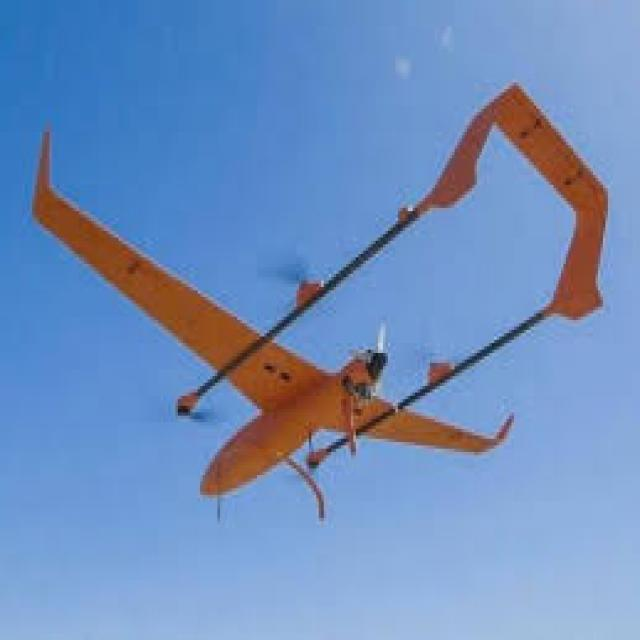iha: (20, 75, 623, 535)
